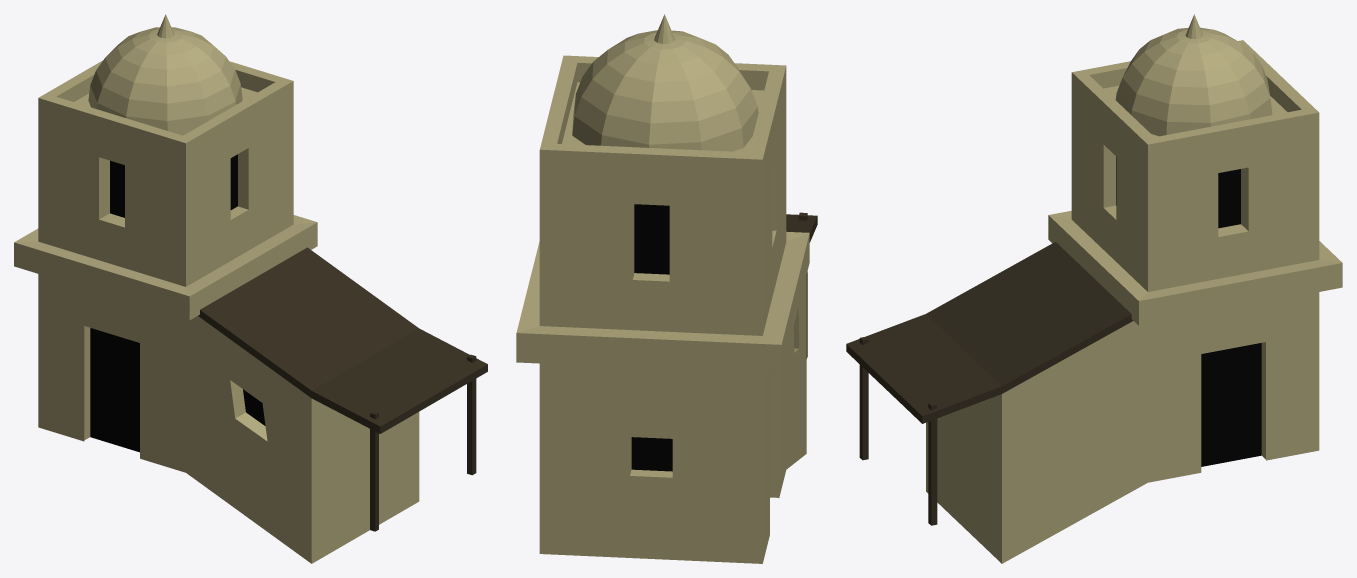
The model's file is _ijhuis 3.fbx.
The picture shows the model from 3 angles, left to right: view 1: azimuth 30°, elevation 25°; view 2: azimuth 150°, elevation 25°; view 3: azimuth 270°, elevation 25°; orthographic projection. The views are drawn at different scales.
Visible parts, largest first — view 1: pCube172; view 2: pCube172; view 3: pCube172.
Part boxes in pixels (x1,y1,x2,y2): pCube172: (14, 14, 487, 563); pCube172: (516, 14, 817, 563); pCube172: (846, 14, 1342, 563).
Size of the model in its own units: 638 by 892 by 854.
